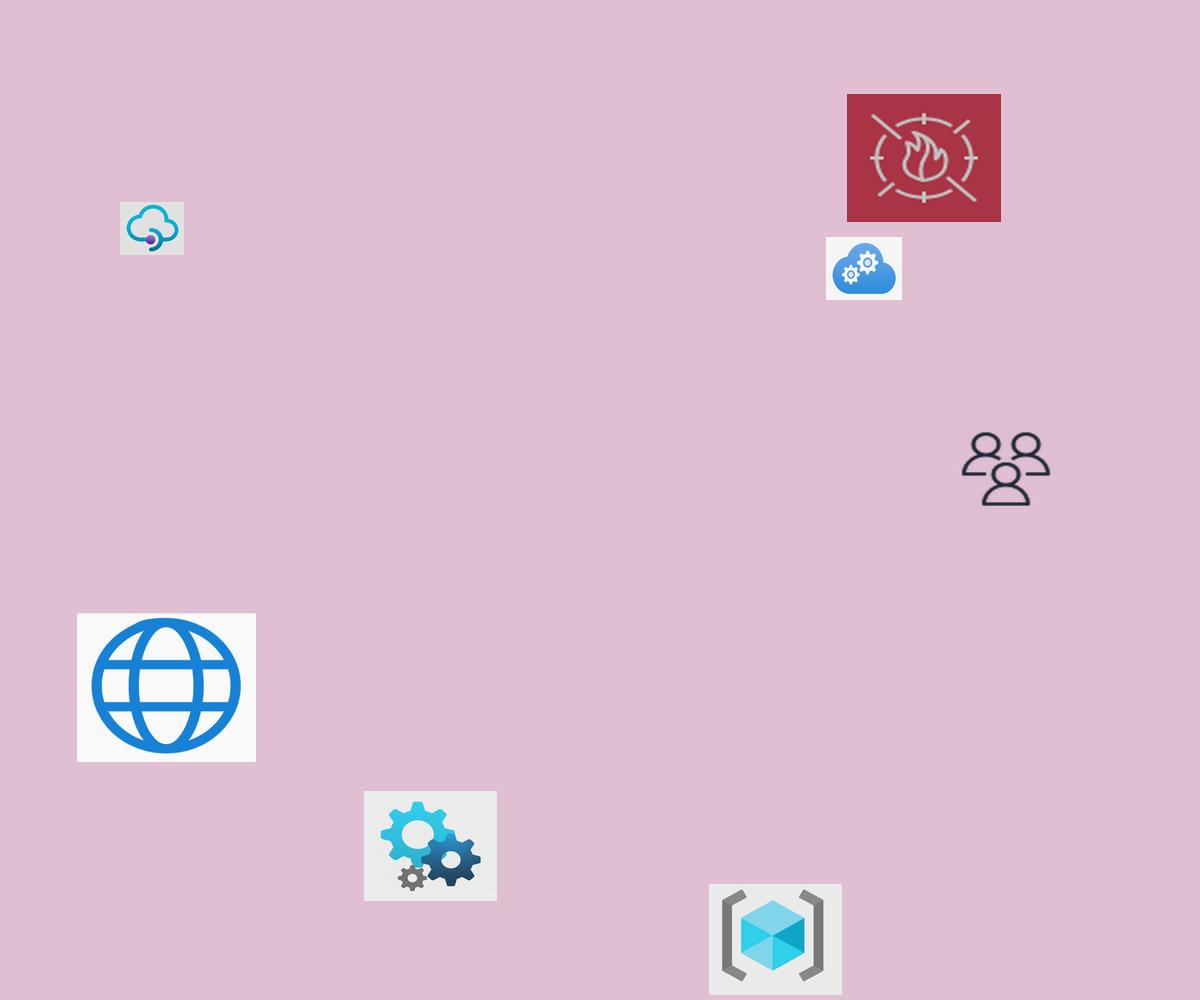AWS-Res_Users: (958, 429, 1054, 509)
AWS-WAF: (847, 94, 1001, 222)
Azure_api: (364, 791, 497, 901)
Azure_api_gateway: (120, 202, 184, 255)
Azure_cloud_services: (826, 237, 902, 300)
Azure_http: (77, 613, 256, 762)
Azure_resource_group: (709, 884, 842, 995)
